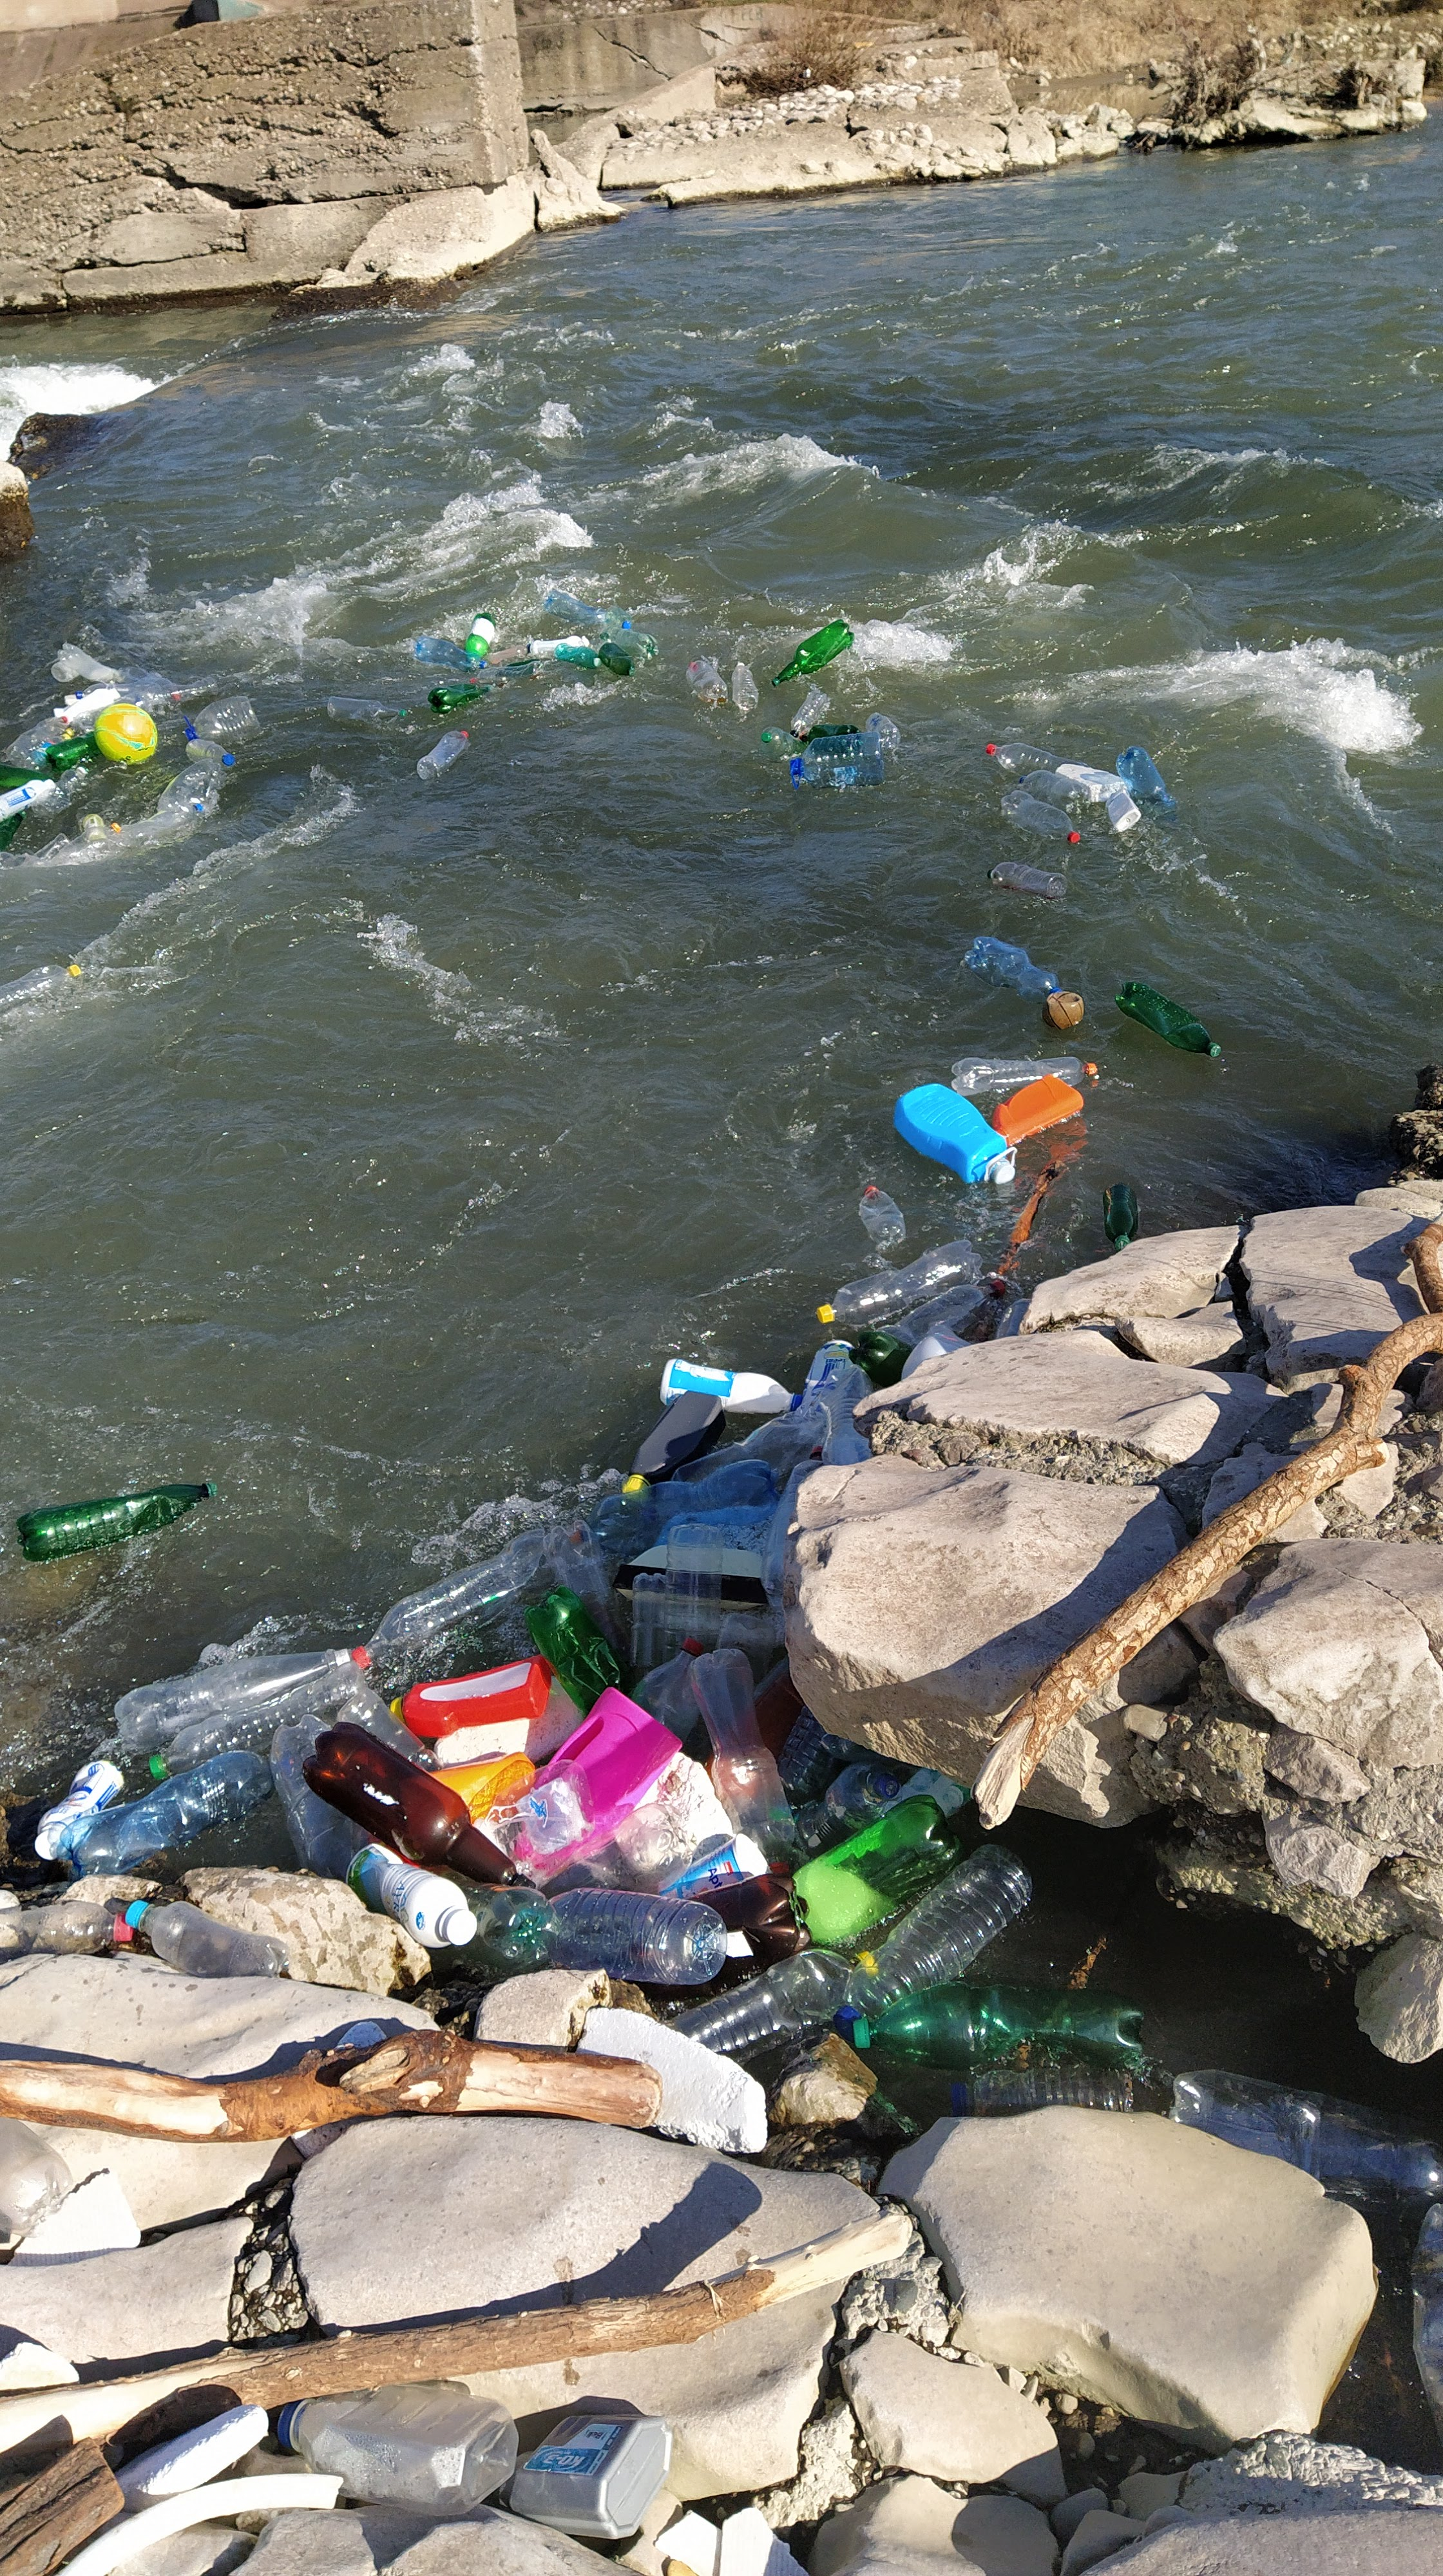Plastic Bottle: (1169, 2068, 1443, 2219), (834, 1844, 1032, 2043), (352, 1529, 556, 1668), (57, 1750, 278, 1875), (149, 1661, 370, 1780), (853, 1982, 1144, 2070), (793, 1796, 963, 1944), (664, 1948, 878, 2065), (113, 1651, 352, 1755), (643, 1874, 811, 1999), (588, 1460, 781, 1553), (16, 1479, 218, 1560), (269, 1713, 367, 1875), (816, 1240, 984, 1323), (522, 1585, 630, 1714), (390, 1654, 549, 1737), (544, 1520, 634, 1660), (894, 1083, 1015, 1184), (671, 1412, 829, 1483), (621, 1391, 724, 1493), (761, 1444, 825, 1608), (34, 1759, 124, 1859), (336, 1688, 443, 1773), (951, 2068, 1133, 2116), (1115, 982, 1220, 1058), (659, 1359, 802, 1414), (1413, 2203, 1443, 2445), (896, 1281, 1006, 1343), (965, 936, 1062, 1003), (993, 1074, 1084, 1143), (951, 1056, 1098, 1095), (772, 619, 853, 686), (791, 731, 884, 789), (820, 1366, 871, 1465), (885, 1767, 972, 1815), (1000, 791, 1080, 842), (184, 695, 262, 745), (632, 1573, 667, 1681), (797, 1339, 853, 1403), (850, 1330, 914, 1387), (66, 692, 154, 732), (0, 964, 80, 1008), (159, 757, 223, 810), (122, 805, 204, 846), (986, 743, 1089, 775), (901, 1332, 972, 1378), (1117, 747, 1174, 801), (1018, 770, 1091, 810), (32, 768, 90, 817), (7, 717, 67, 764), (986, 862, 1066, 897), (859, 1185, 905, 1244), (416, 729, 469, 778), (0, 778, 55, 824), (414, 635, 482, 672), (1103, 1184, 1138, 1251), (51, 823, 122, 855), (57, 642, 115, 679), (328, 695, 407, 720), (428, 681, 490, 713), (48, 732, 101, 770), (544, 591, 597, 626), (598, 628, 657, 660), (66, 688, 120, 720), (685, 660, 728, 701), (19, 734, 71, 768), (469, 662, 544, 685), (791, 690, 829, 736), (761, 727, 807, 761), (1105, 791, 1142, 832), (995, 1299, 1030, 1338), (528, 635, 590, 656), (866, 711, 901, 748), (186, 740, 234, 766), (731, 662, 758, 709), (163, 678, 218, 701), (76, 681, 163, 695), (466, 614, 496, 655), (598, 642, 636, 674), (0, 764, 51, 787), (554, 644, 600, 667), (800, 725, 860, 741), (34, 833, 71, 858), (0, 812, 23, 851), (597, 605, 630, 628), (485, 644, 528, 662), (50, 660, 78, 681), (145, 683, 163, 706), (83, 814, 104, 826), (506, 660, 540, 665)
